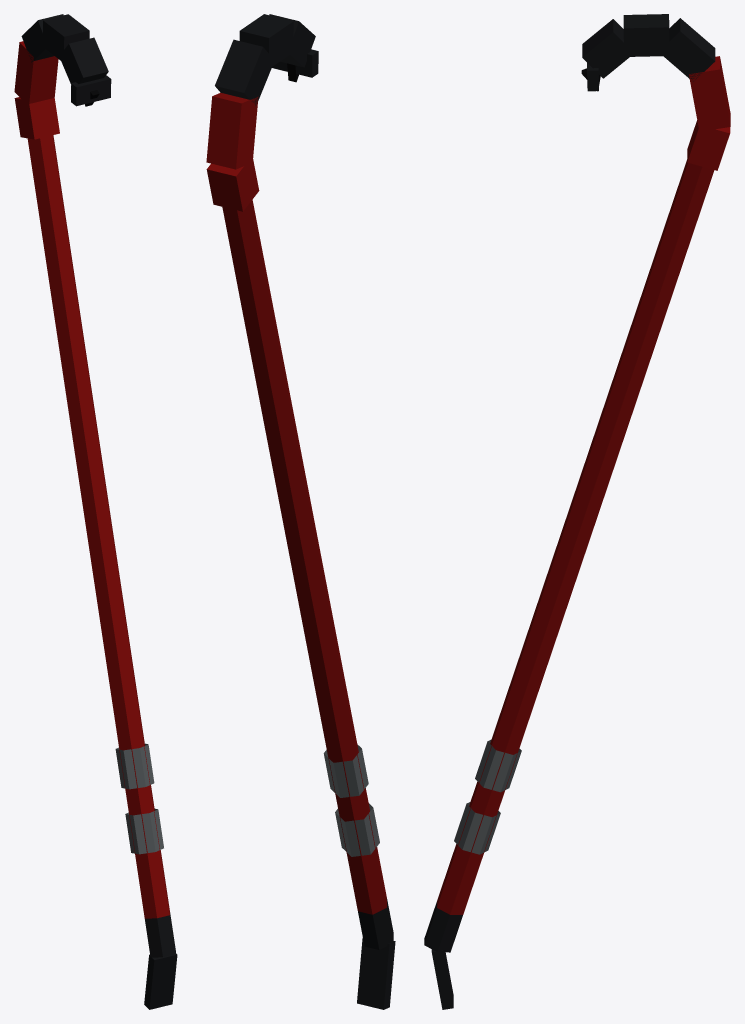
Rendered from SM_Wep_Crowbar.glb.
3 views of the same model, side by side, from view 1: azimuth 30°, elevation 25°; view 2: azimuth 150°, elevation 25°; view 3: azimuth 270°, elevation 25° (orthographic). The views are drawn at different scales.
Visible parts, largest first — view 1: SM_Wep_Crowbar; view 2: SM_Wep_Crowbar; view 3: SM_Wep_Crowbar.
Part boxes in pixels (left/top/right/bottom): SM_Wep_Crowbar: left=14, top=14, right=177, bottom=1009; SM_Wep_Crowbar: left=206, top=14, right=395, bottom=1009; SM_Wep_Crowbar: left=424, top=14, right=730, bottom=1009.
Size of the model in its own units: 0.03 by 0.7541 by 0.2129.
Materials: 1 (1 with a texture image).
